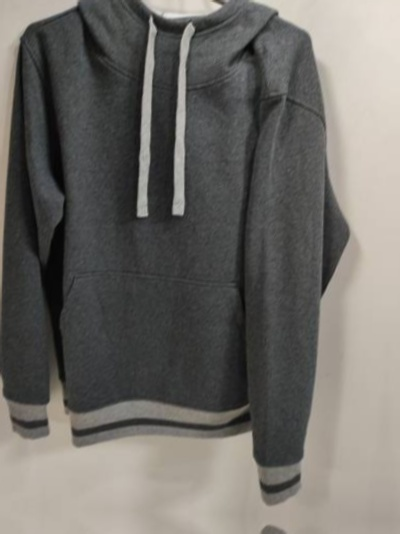Hoodie: (0, 0, 359, 499), (0, 525, 338, 534)
